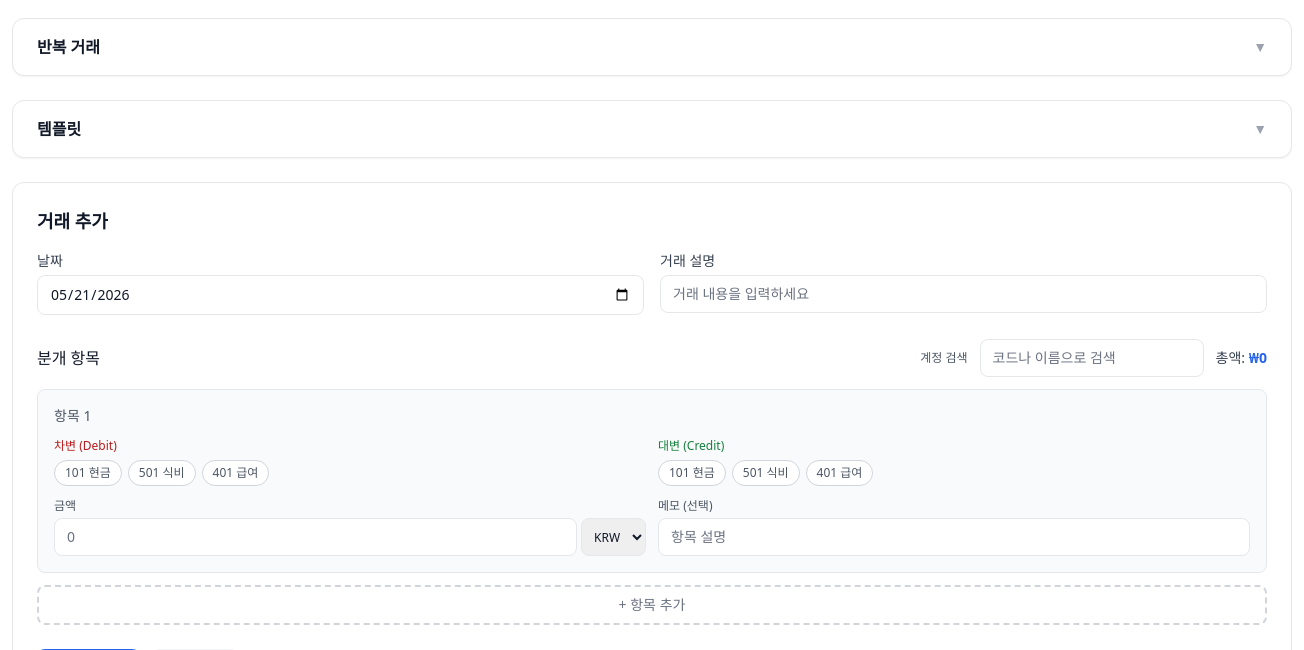
Test case: RecurringTransactionsPage (반복 거래 탭) › 반복 거래 탭 전환 후 로딩 중 상태를 표시한다
// 반복 거래 탭으로 전환
Click the button "반복 거래 ▼" at (69, 47), box left=13, top=19, right=1291, bottom=75
(page scrolled)
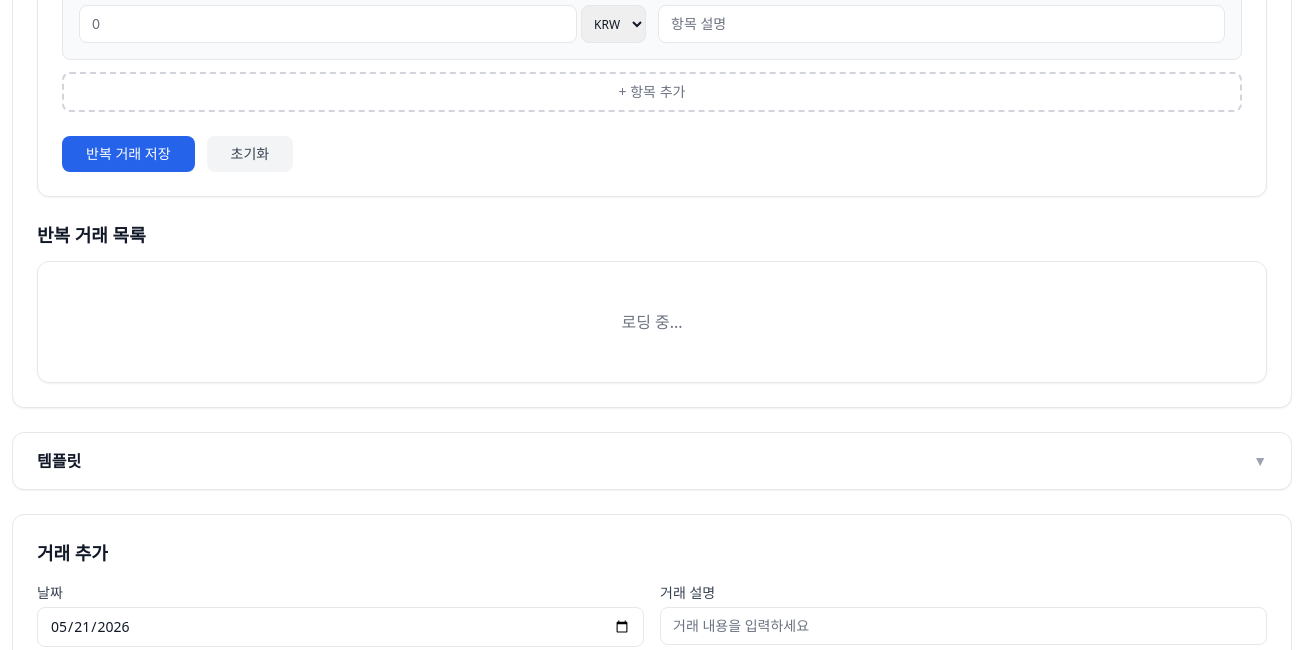
Check: the text "로딩 중..." is shown, box left=621, top=311, right=683, bottom=333
